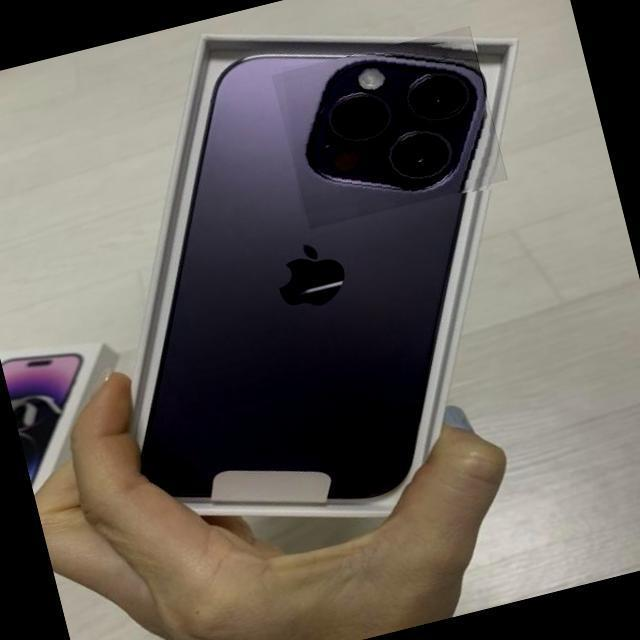lens: (309, 52, 479, 196)
phone: (159, 35, 496, 502)
